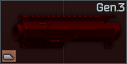AR-15 Noveske Gen.3 5.56x45 upper receiver: (0, 0, 127, 64)
